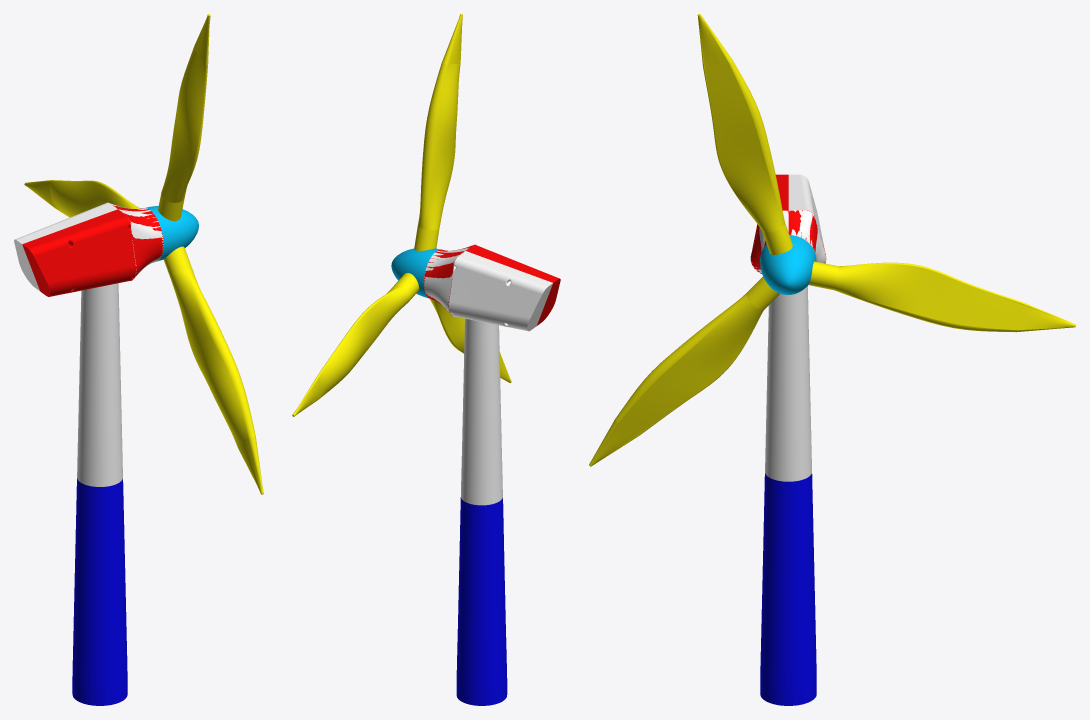
The model's file is wind.glb.
The picture shows the model from 3 angles, left to right: view 1: azimuth 30°, elevation 25°; view 2: azimuth 150°, elevation 25°; view 3: azimuth 270°, elevation 25°; orthographic projection. The views are drawn at different scales.
Visible parts, largest first — view 1: body, blade.002; view 2: body, blade.002; view 3: blade.002, body.
Part boxes in pixels (<box>): body: <box>14,202,163,705</box>; blade.002: <box>24,14,263,494</box>; body: <box>423,244,560,705</box>; blade.002: <box>292,14,511,416</box>; blade.002: <box>589,14,1075,466</box>; body: <box>750,174,826,705</box>.
Size of the model in its own units: 13.97 by 52.94 by 32.78.
